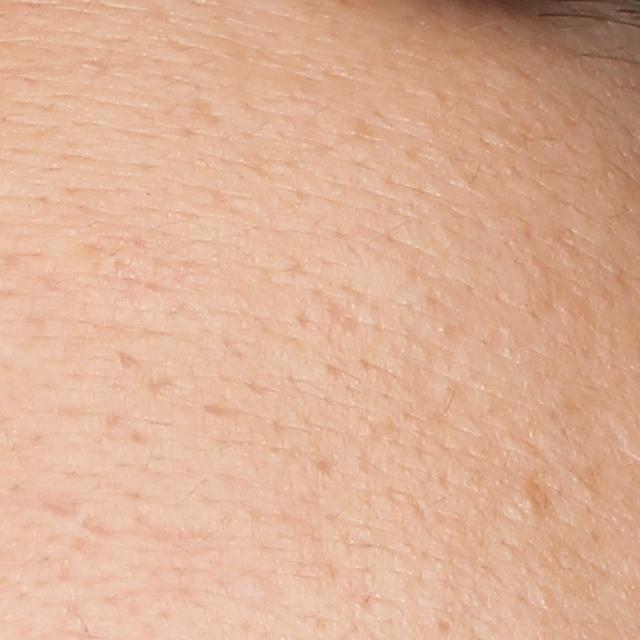atrophic_scar: (31, 488, 96, 518), (81, 513, 118, 539), (141, 371, 182, 391), (196, 95, 222, 126), (119, 348, 144, 372)
comedo: (520, 495, 540, 514)
